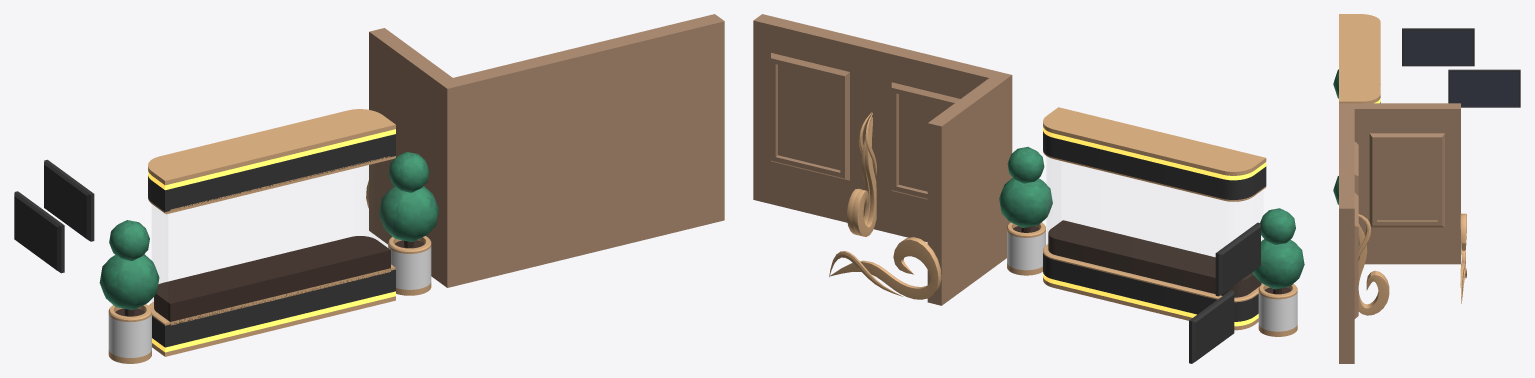
Rendered from AppGameWestFurniture (2).fbx.
3 views of the same model, side by side, from view 1: azimuth 30°, elevation 25°; view 2: azimuth 150°, elevation 25°; view 3: azimuth 270°, elevation 25° (orthographic). The views are drawn at different scales.
Parts seen in each view (by area): view 1: Room.002, Circle.005, Icosphere.006, Icosphere.003, Plane.003, Plane.001, Circle.008, Circle.003; view 2: Room.002, Circle.005, Icosphere.003, Icosphere.006, NurbsPath.002, Plane.001, Plane.003, Circle.008, Circle.003, NurbsPath.003, NurbsPath.004; view 3: Room.002, Circle.005, Plane.001, Plane.003, NurbsPath.004, NurbsPath.002, NurbsPath.003.
Boxes of the visible parts, x1,y1,x2,y2 form: Room.002: (369, 14, 724, 287); Circle.005: (148, 109, 395, 356); Icosphere.006: (99, 220, 159, 316); Icosphere.003: (379, 152, 438, 248); Plane.003: (14, 191, 64, 273); Plane.001: (44, 159, 94, 241); Circle.008: (108, 304, 151, 363); Circle.003: (388, 236, 431, 295); Room.002: (753, 14, 1012, 305); Circle.005: (1043, 107, 1266, 330); Icosphere.003: (999, 147, 1052, 232); Icosphere.006: (1253, 208, 1304, 294); NurbsPath.002: (829, 237, 941, 299); Plane.001: (1215, 222, 1260, 296); Plane.003: (1189, 290, 1234, 363); Circle.008: (1258, 284, 1297, 336); Circle.003: (1007, 222, 1045, 275); NurbsPath.003: (852, 113, 876, 236); NurbsPath.004: (847, 112, 871, 235); Room.002: (1339, 103, 1460, 363); Circle.005: (1339, 14, 1380, 103); Plane.001: (1402, 28, 1474, 66); Plane.003: (1448, 69, 1520, 107); NurbsPath.004: (1358, 215, 1389, 315); NurbsPath.002: (1460, 213, 1466, 303); NurbsPath.003: (1358, 214, 1389, 306).
Bounding box in the file's own units: 2965 × 927 × 1015.
Materials: 12 (1 with a texture image).
